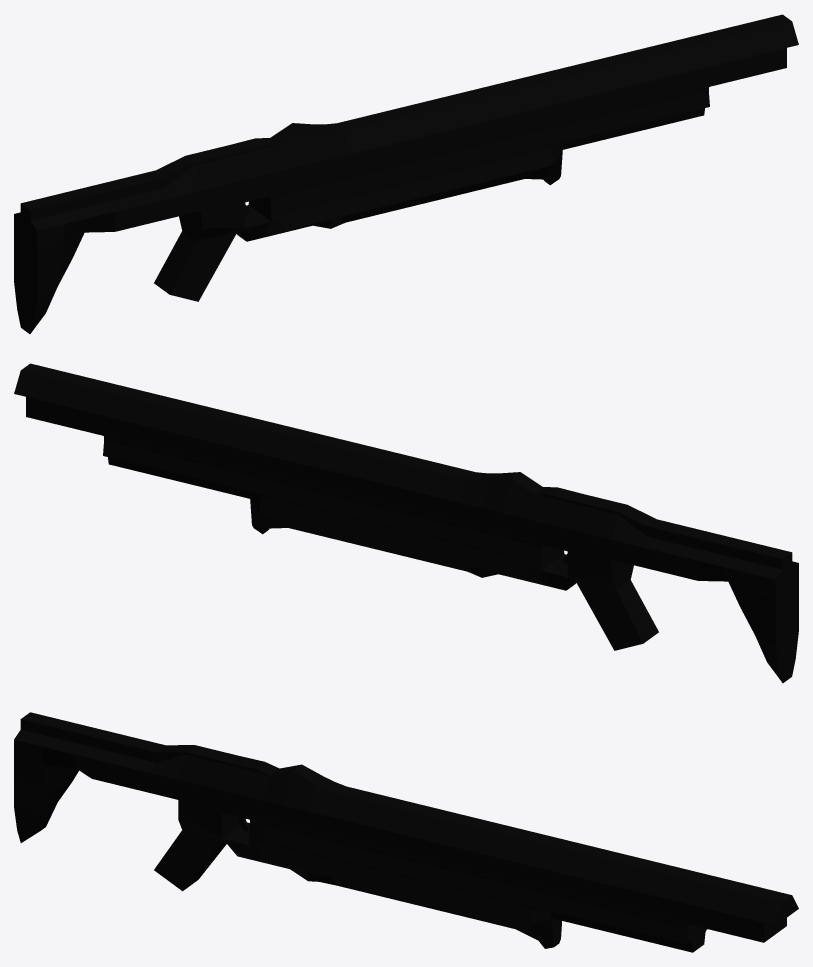
File: machine_gun.glb
3 renders of one model, top to bottom at view 1: azimuth 30°, elevation 25°; view 2: azimuth 150°, elevation 25°; view 3: azimuth 330°, elevation 25°, orthographic.
Parts seen in each view (by area): view 1: Cube; view 2: Cube; view 3: Cube.
Boxes of the visible parts, <box> form: Cube: <box>14,14,798,333</box>; Cube: <box>14,363,798,682</box>; Cube: <box>14,712,798,952</box>.
Bounding box in the file's own units: 0.576 × 0.1037 × 0.0301.
Materials: 1 (1 with a texture image).
